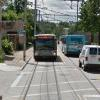Bus: (30, 32, 62, 63)
